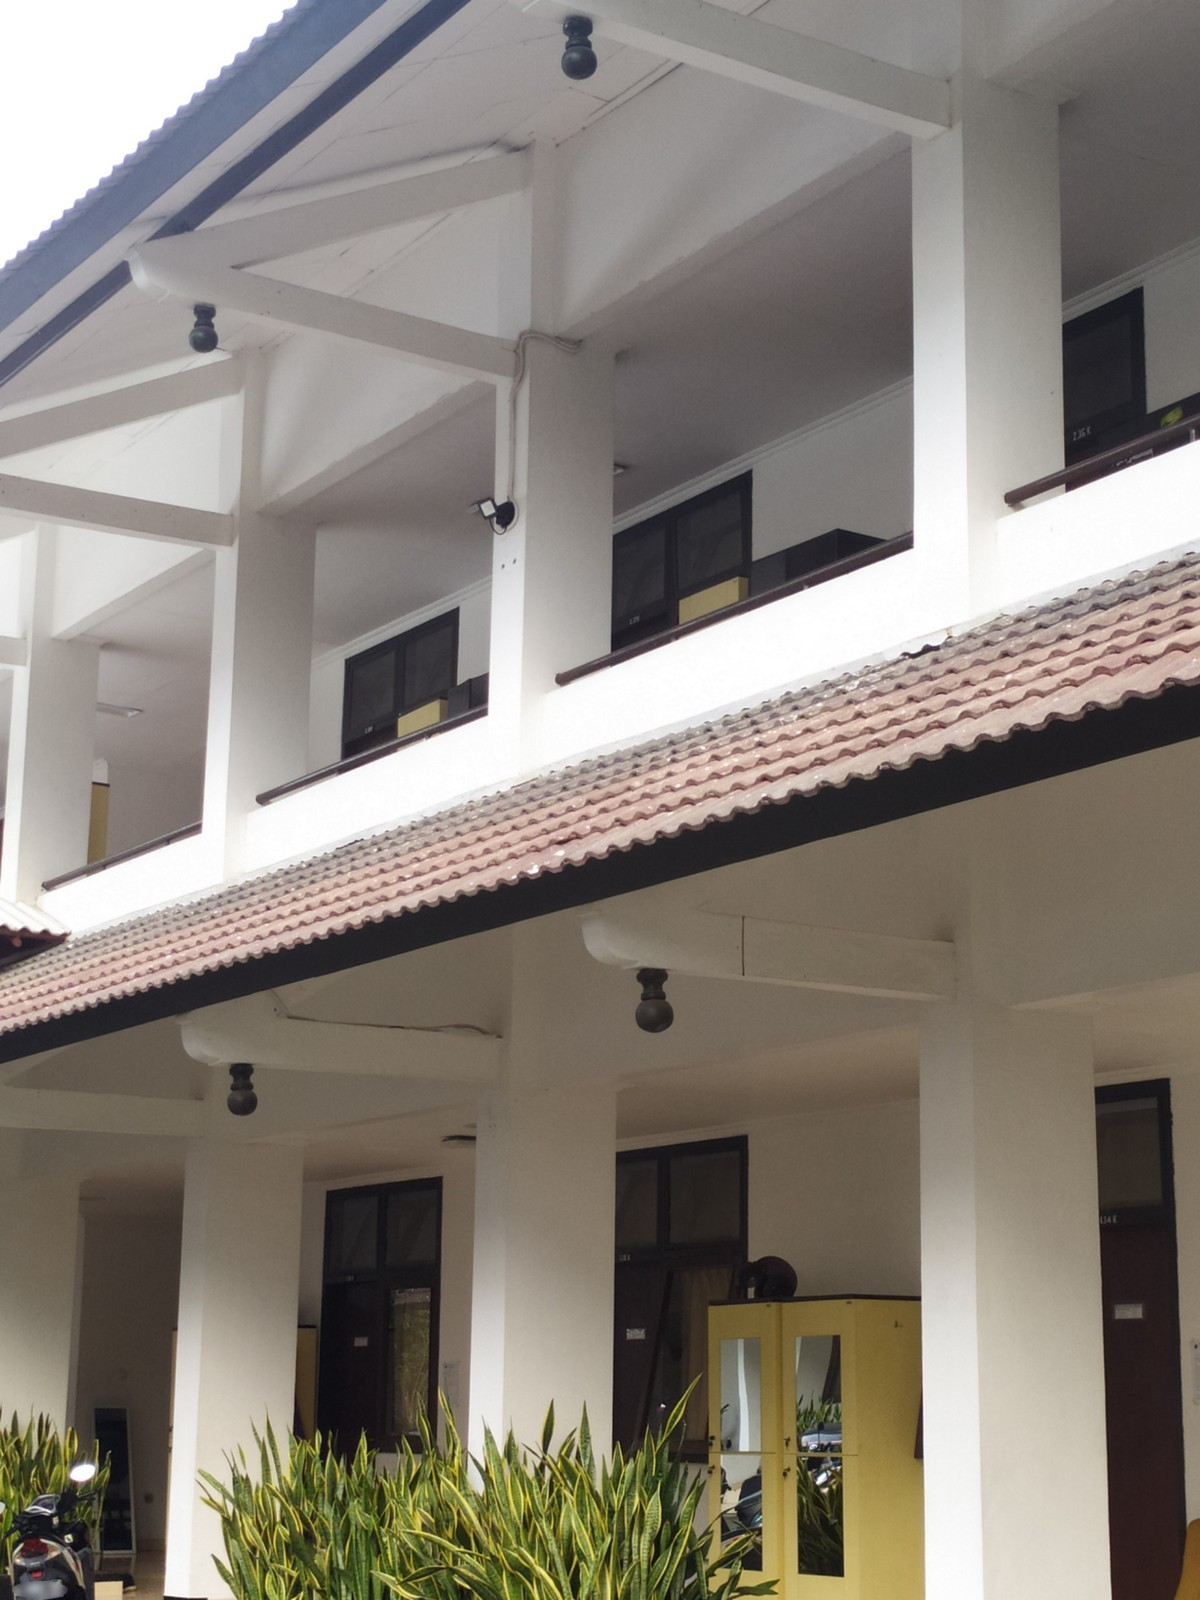concrete beam: (644, 8, 955, 146), (239, 277, 529, 396), (703, 918, 958, 1012), (11, 477, 239, 559)
concrete column: (906, 929, 1121, 1600), (896, 24, 1080, 650), (480, 193, 620, 787), (463, 993, 621, 1500), (166, 1115, 310, 1596), (200, 369, 329, 889)
